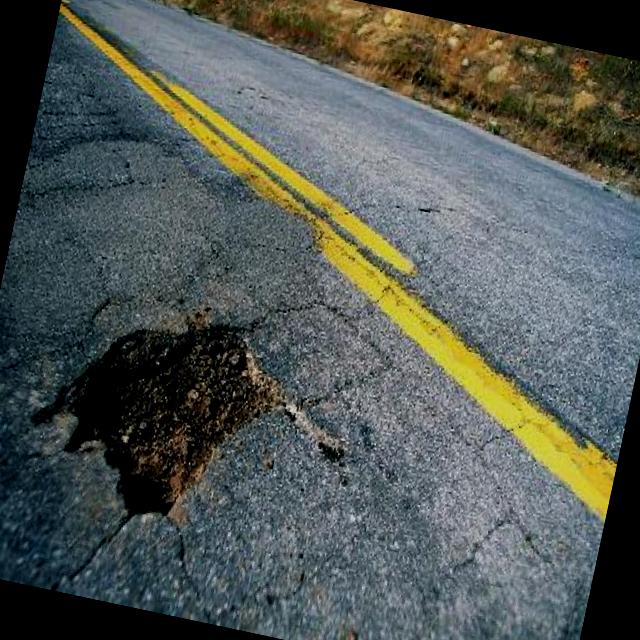pothole: (12, 280, 304, 551)
